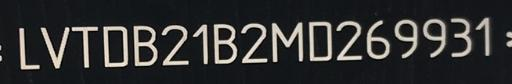letter: (269, 21, 305, 63), (39, 24, 71, 70), (159, 22, 191, 67), (69, 22, 99, 69), (100, 23, 130, 68), (334, 19, 364, 61), (15, 22, 41, 69), (131, 23, 159, 66), (392, 18, 420, 60), (306, 19, 334, 61), (240, 22, 268, 64), (364, 18, 392, 59), (212, 22, 238, 65), (422, 17, 448, 59), (474, 16, 496, 61), (448, 16, 472, 57), (190, 22, 210, 66)
